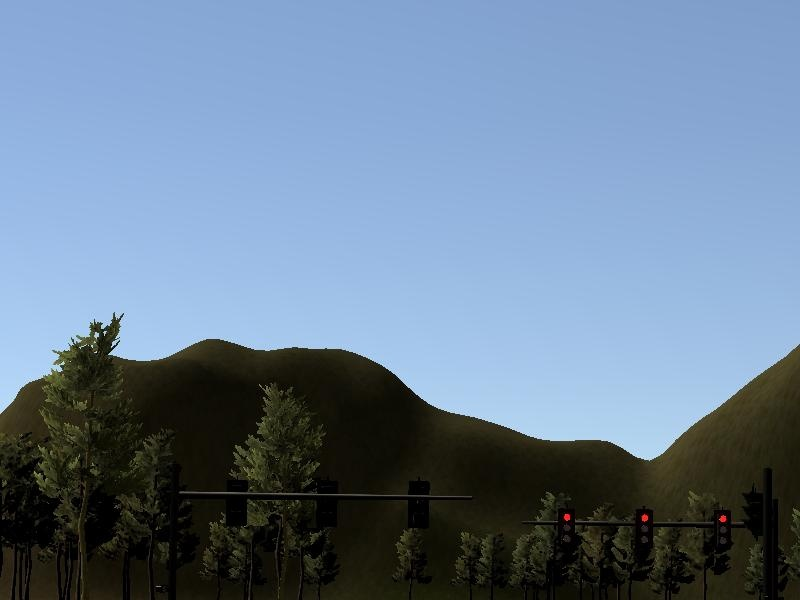traffic_light_red: (540, 508, 757, 551)
